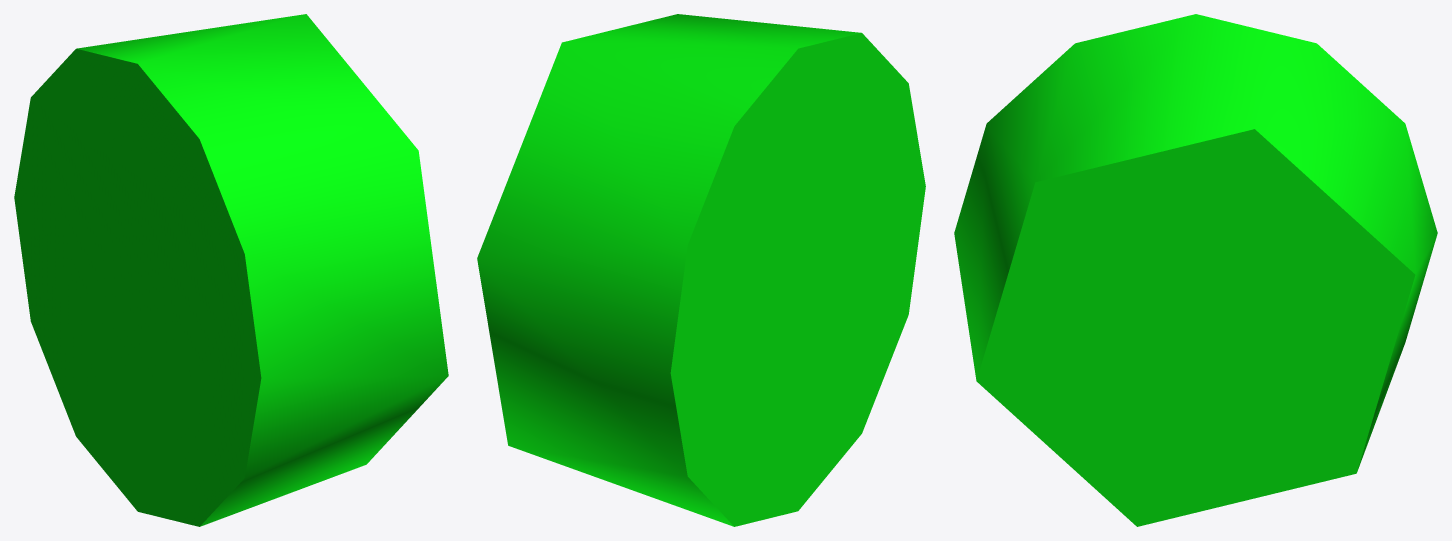
Rendered from SM_Toster_01_Button_03_Collider.fbx.
3 views of the same model, side by side, from view 1: azimuth 30°, elevation 25°; view 2: azimuth 150°, elevation 25°; view 3: azimuth 270°, elevation 25° (orthographic). The views are drawn at different scales.
Visible parts, largest first — view 1: SM_Toster_01_Button_03_Collider; view 2: SM_Toster_01_Button_03_Collider; view 3: SM_Toster_01_Button_03_Collider.
Part boxes in pixels (bbox=[...]): SM_Toster_01_Button_03_Collider: bbox=[14, 14, 448, 526]; SM_Toster_01_Button_03_Collider: bbox=[477, 14, 925, 526]; SM_Toster_01_Button_03_Collider: bbox=[954, 14, 1437, 526].
Size of the model in its own units: 1.12 by 2.41 by 2.41.
